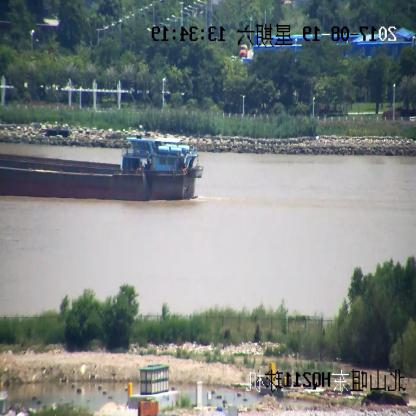Bulk Carrier: (0, 138, 203, 200)
